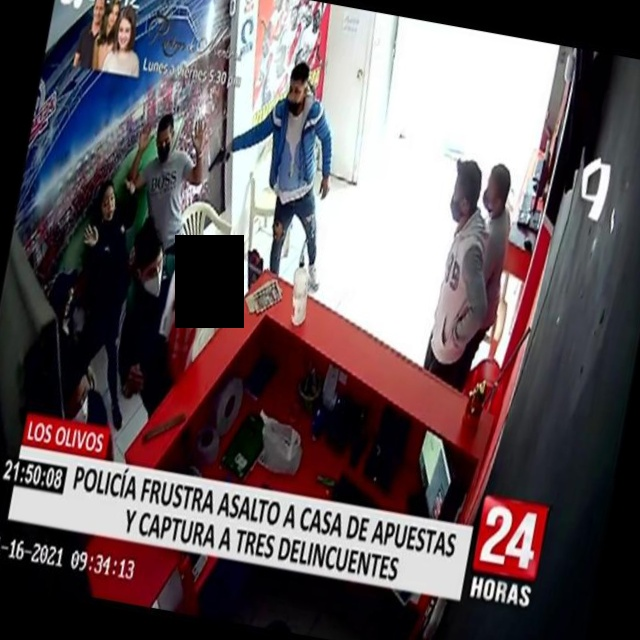gun: (200, 128, 236, 184)
